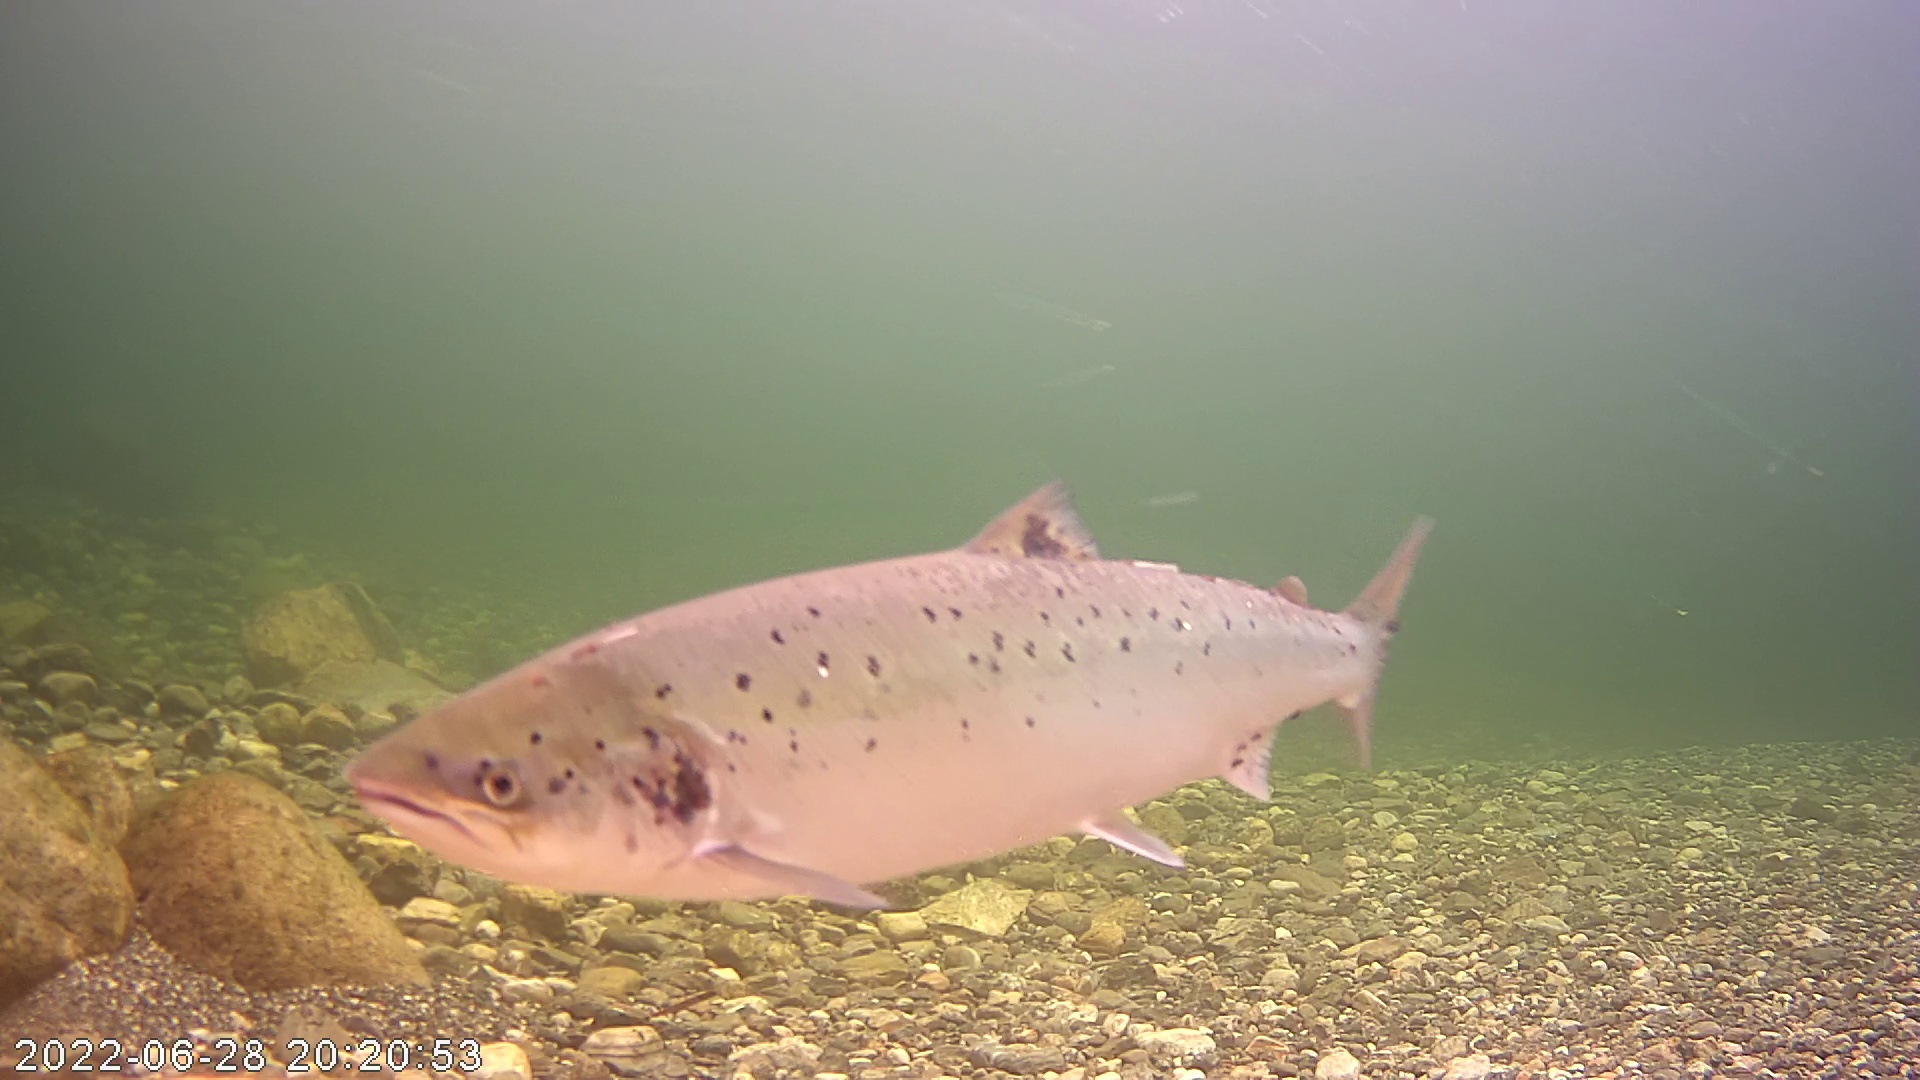salmon: (349, 406, 1431, 926)
